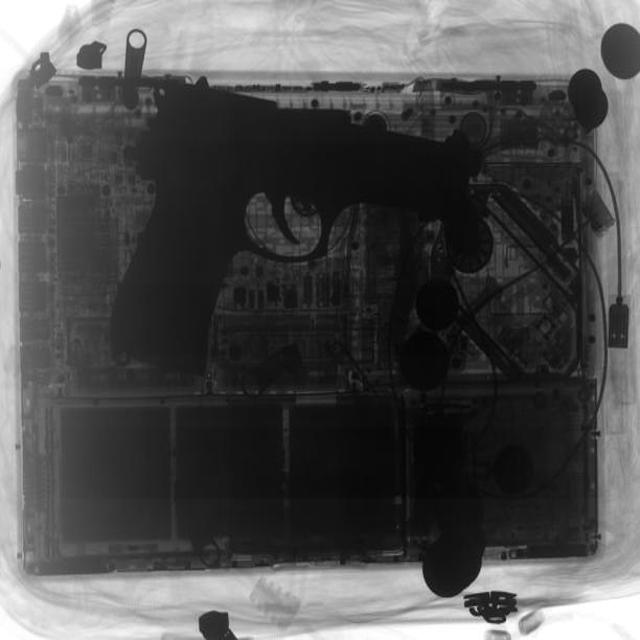gun: (99, 67, 486, 383)
